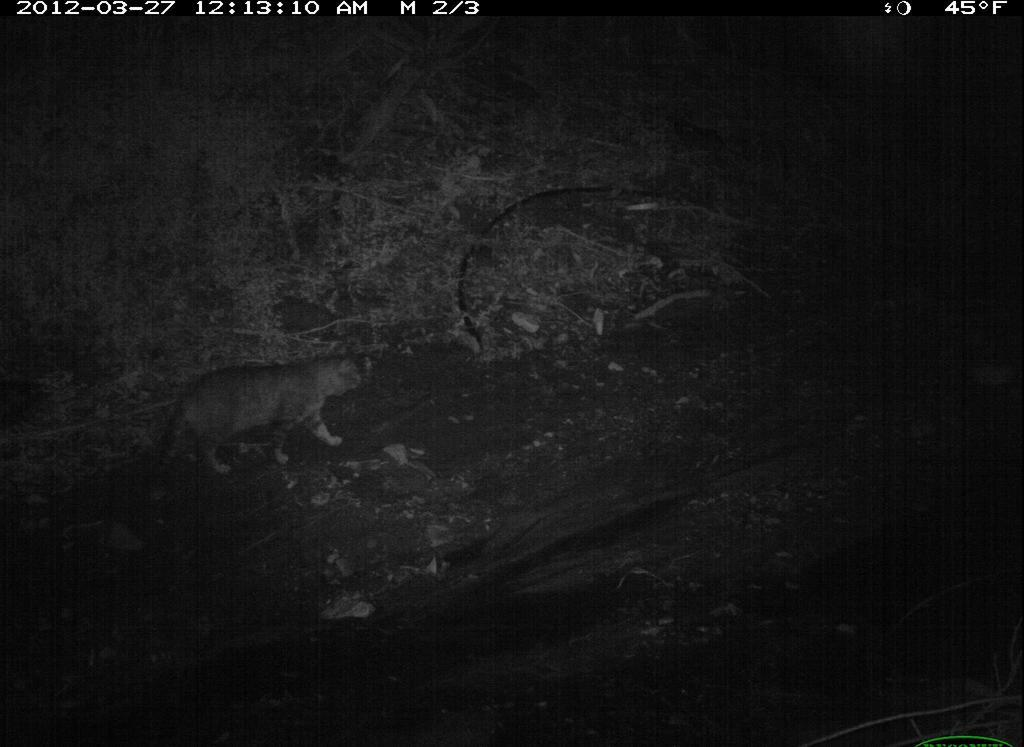cat: (134, 338, 381, 492)
